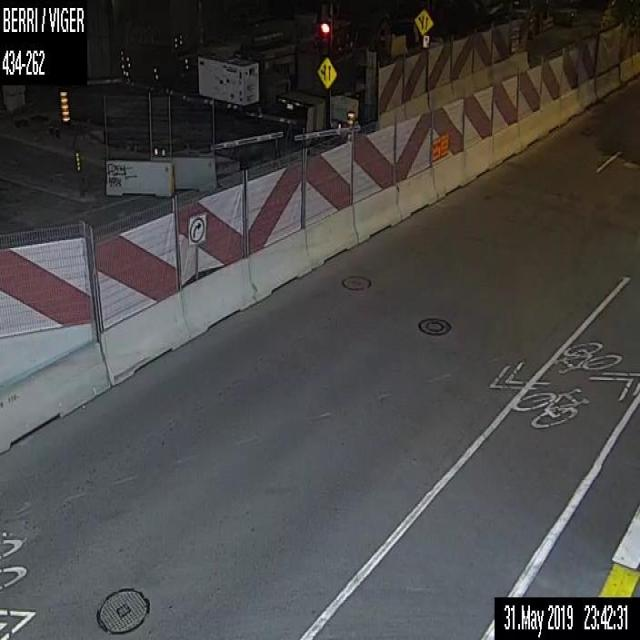construction: (0, 0, 639, 457), (58, 88, 69, 123), (346, 110, 354, 140)
